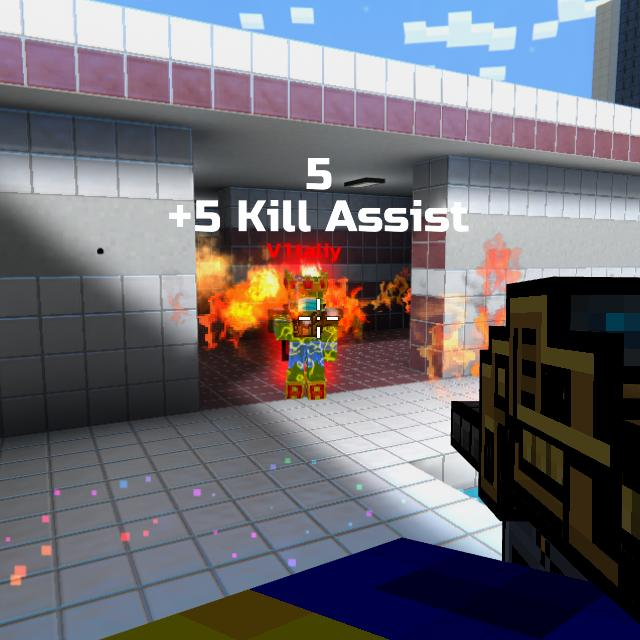Enemy: (267, 273, 343, 399)
